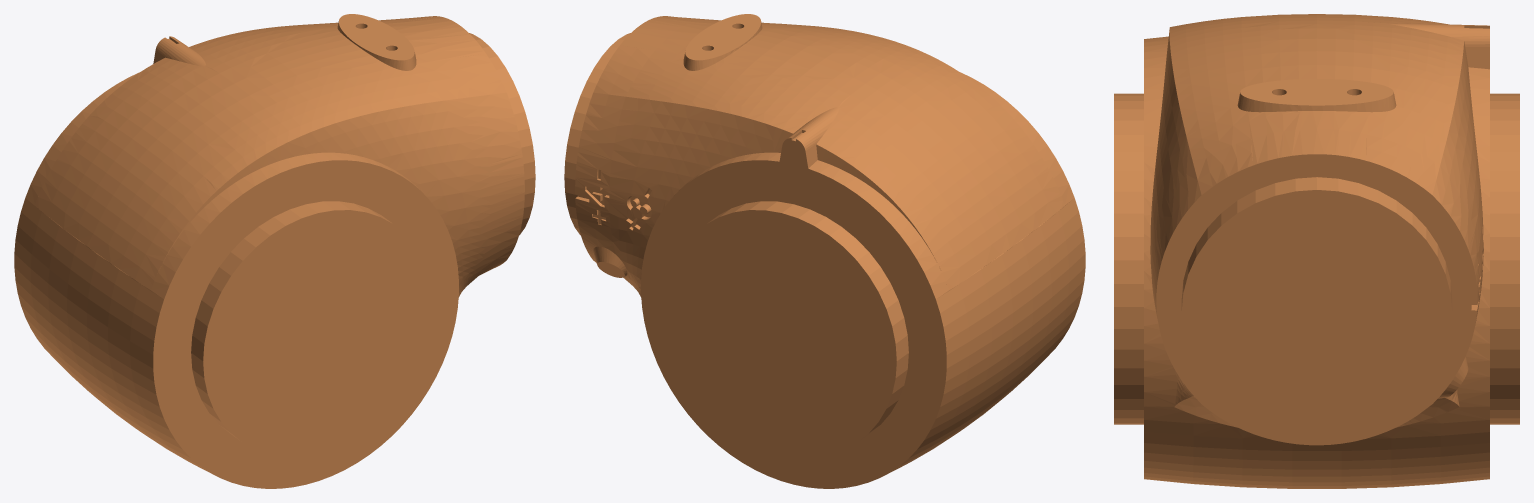
3 views of the same model, side by side, from view 1: azimuth 30°, elevation 25°; view 2: azimuth 150°, elevation 25°; view 3: azimuth 270°, elevation 25° (orthographic). The views are drawn at different scales.
Visible parts, largest first — view 1: Link_3; view 2: Link_3; view 3: Link_3.
Boxes of the visible parts, box(x1,y1,x2,y2) form: Link_3: box(14, 14, 535, 488); Link_3: box(564, 14, 1085, 488); Link_3: box(1114, 14, 1519, 488).
Bounding box in the file's own units: 0.1934 × 0.135 × 0.1689.
